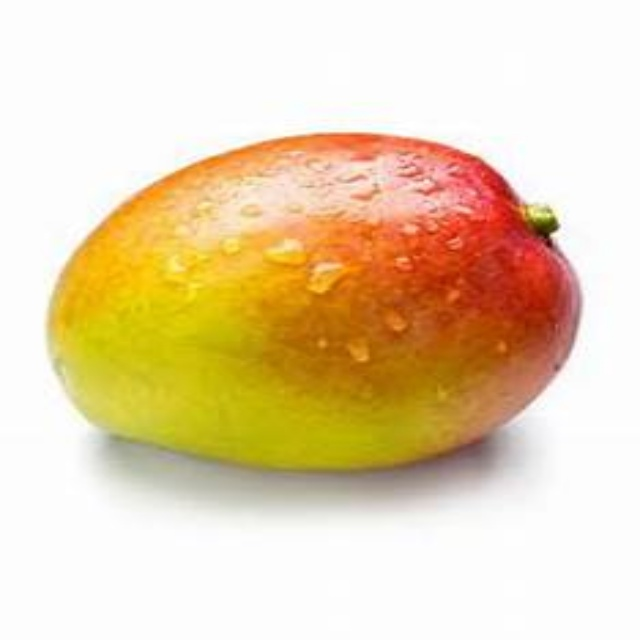mango: (44, 134, 577, 466)
